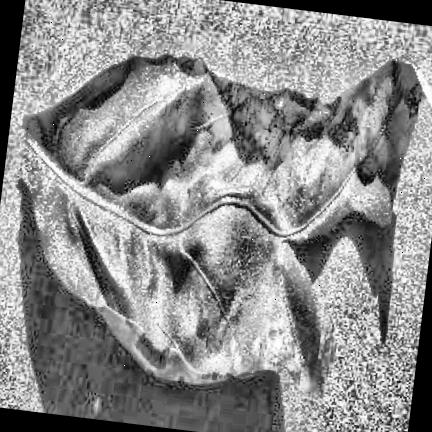leaf: (24, 53, 431, 397)
